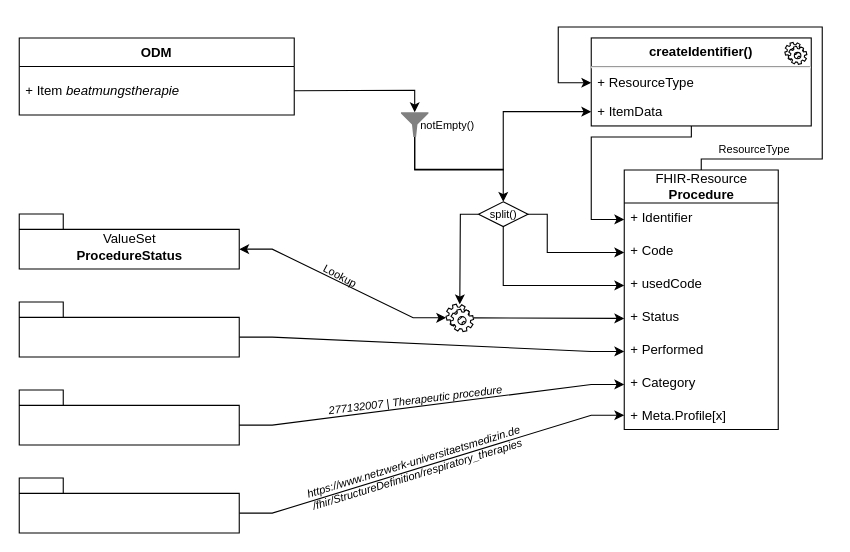
This 850x552 diagram has some shape labels left out. The centre of each missing label's shape, as x and y in pixels:
"Codesystem SNOMED-CT" belongs at pixel 128 417.
"Extension UnknownDateTime" belongs at pixel 128 329.
"GECCO Profiles" belongs at pixel 128 505.
